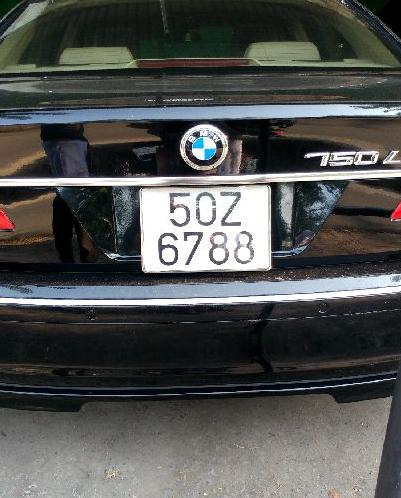Plate-iWeP: (138, 183, 274, 272)
